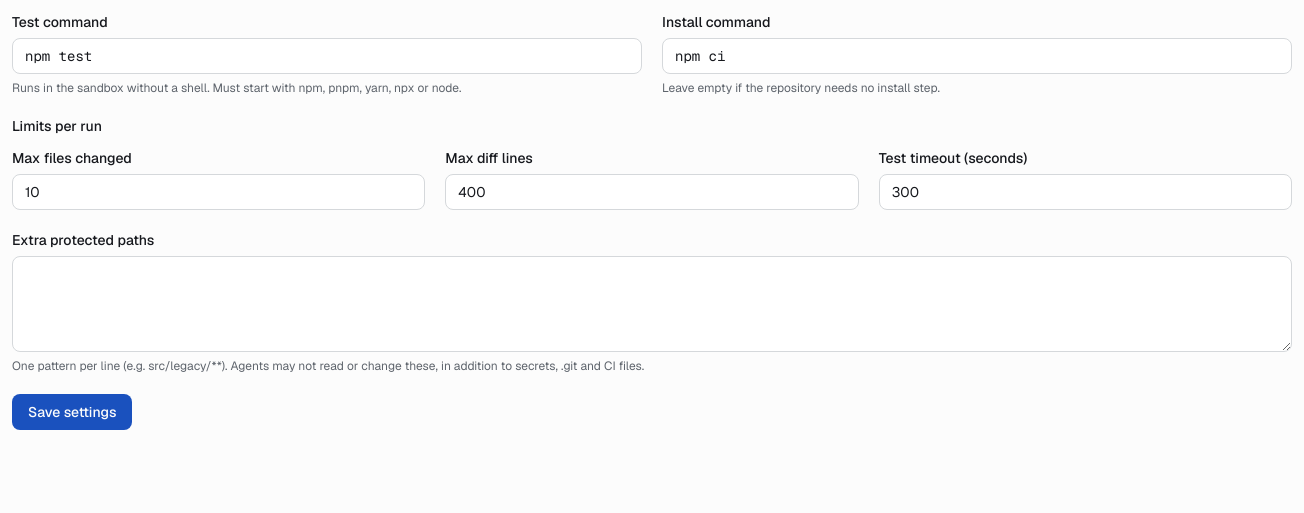
Test: RepositorySettingsForm › saves the settings as argument lists and limits
The width and height of the screenshot is (1304, 513).
Replace the text in the field labelled "Test command" with "pnpm test -- --reporter=junit": (327, 56) [12,38,642,74]
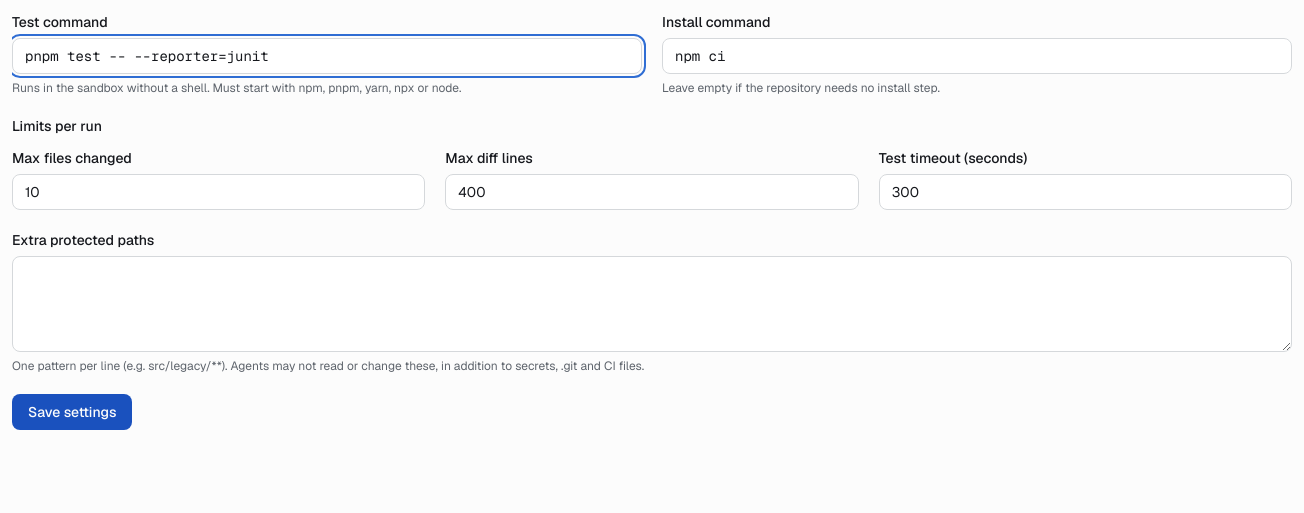
Clear the field labelled "Install command": (977, 56) [662,38,1292,74]
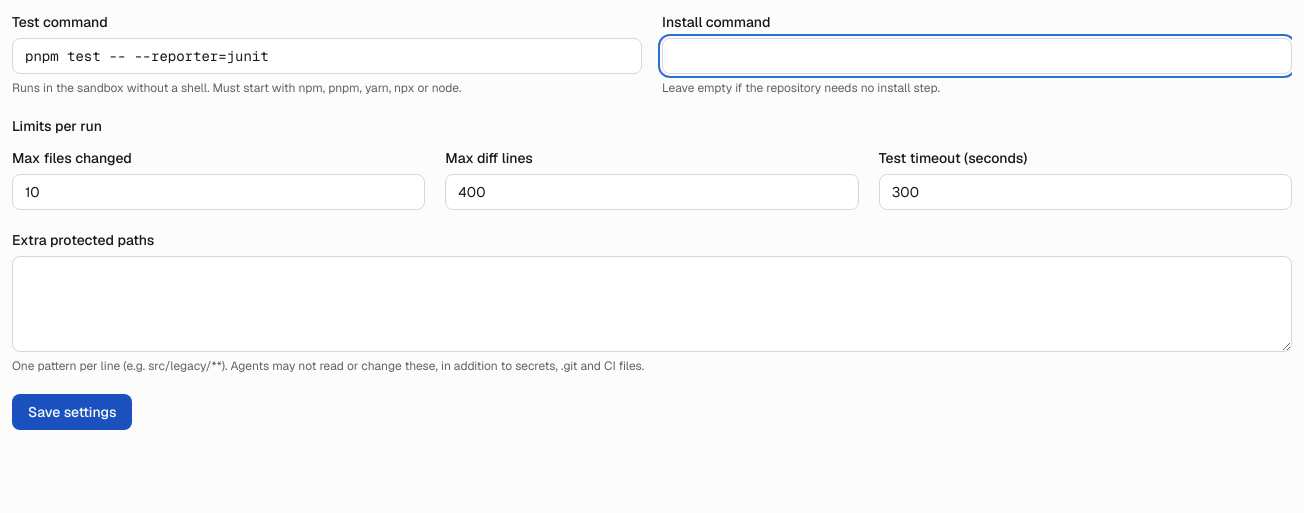
Click the button "Save settings": click(72, 412) [12,394,132,430]
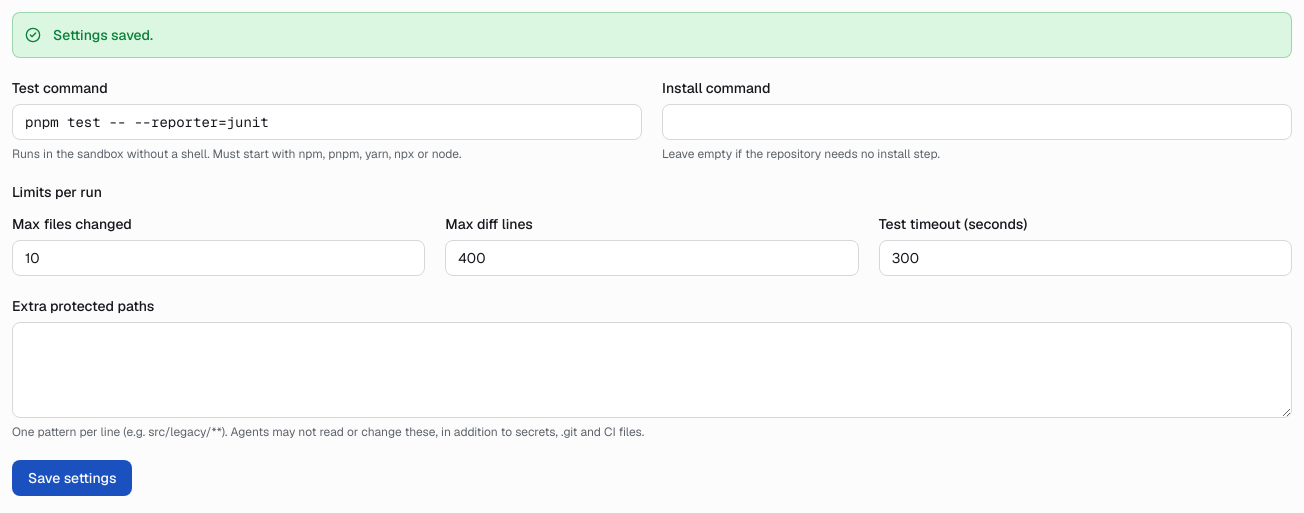
Result: the text "Settings saved." is shown at [53,25,153,45]
